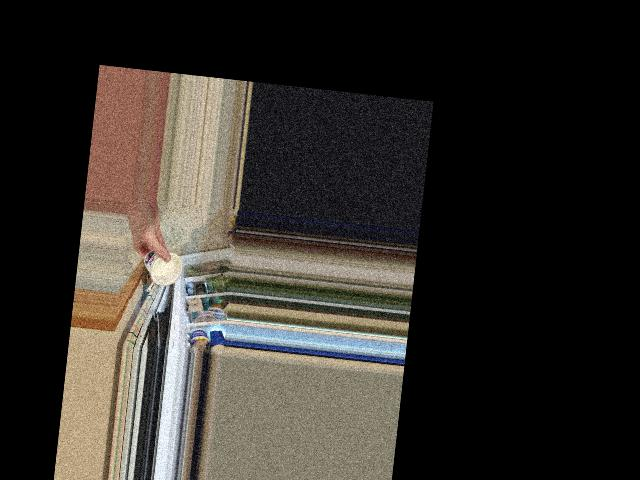cotage: (138, 245, 183, 289)
